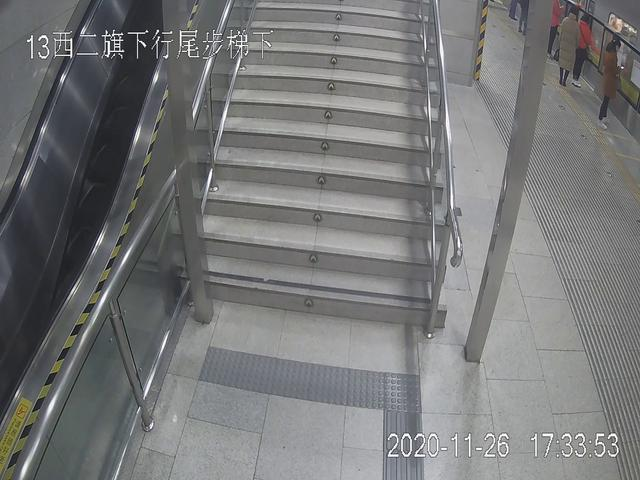person: (595, 32, 624, 134), (574, 7, 599, 89), (559, 1, 577, 91)
